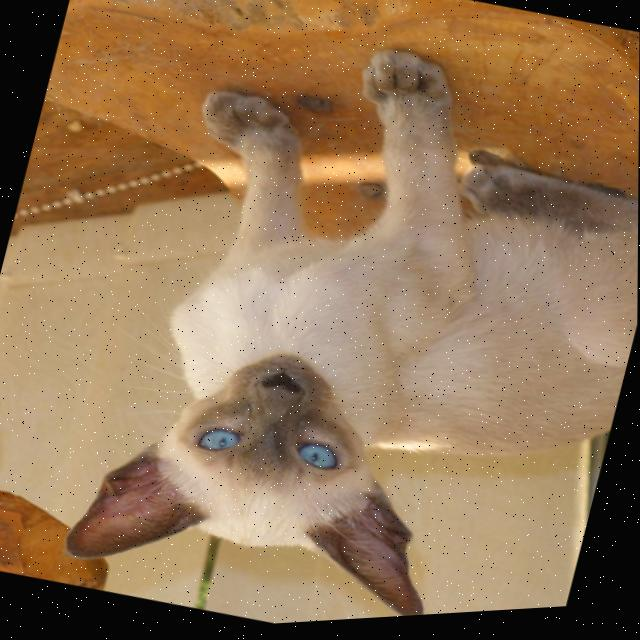Siamese: (54, 0, 640, 637)
